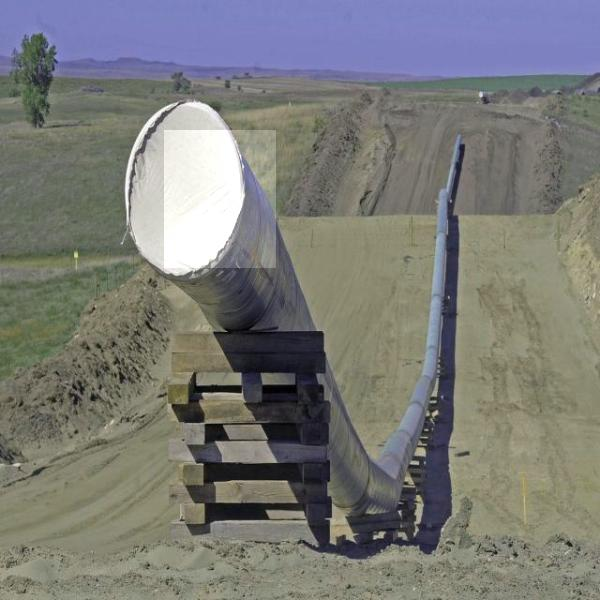no leak: (164, 130, 276, 268)
